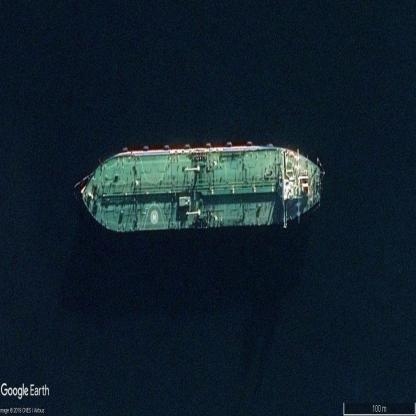ship: (82, 145, 319, 231)
